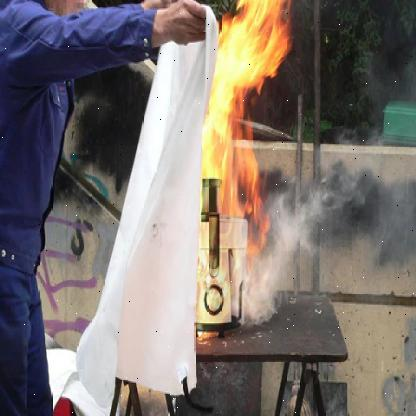fire: (198, 0, 295, 255)
smoke: (219, 164, 416, 337)
